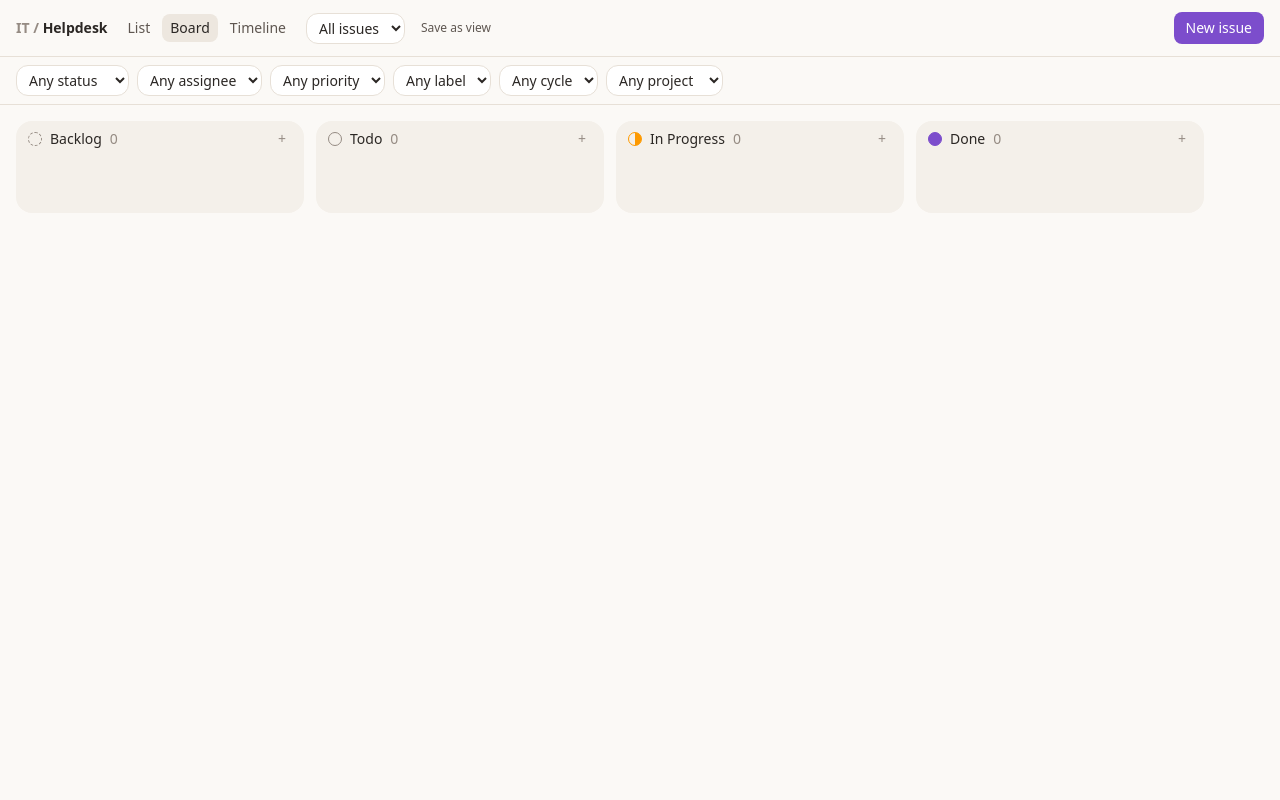
Test: TeamIssuesPage › creates an issue in the chosen column
Click the button named "New issue in In Progress" at (882, 139), box [872,129,892,149]
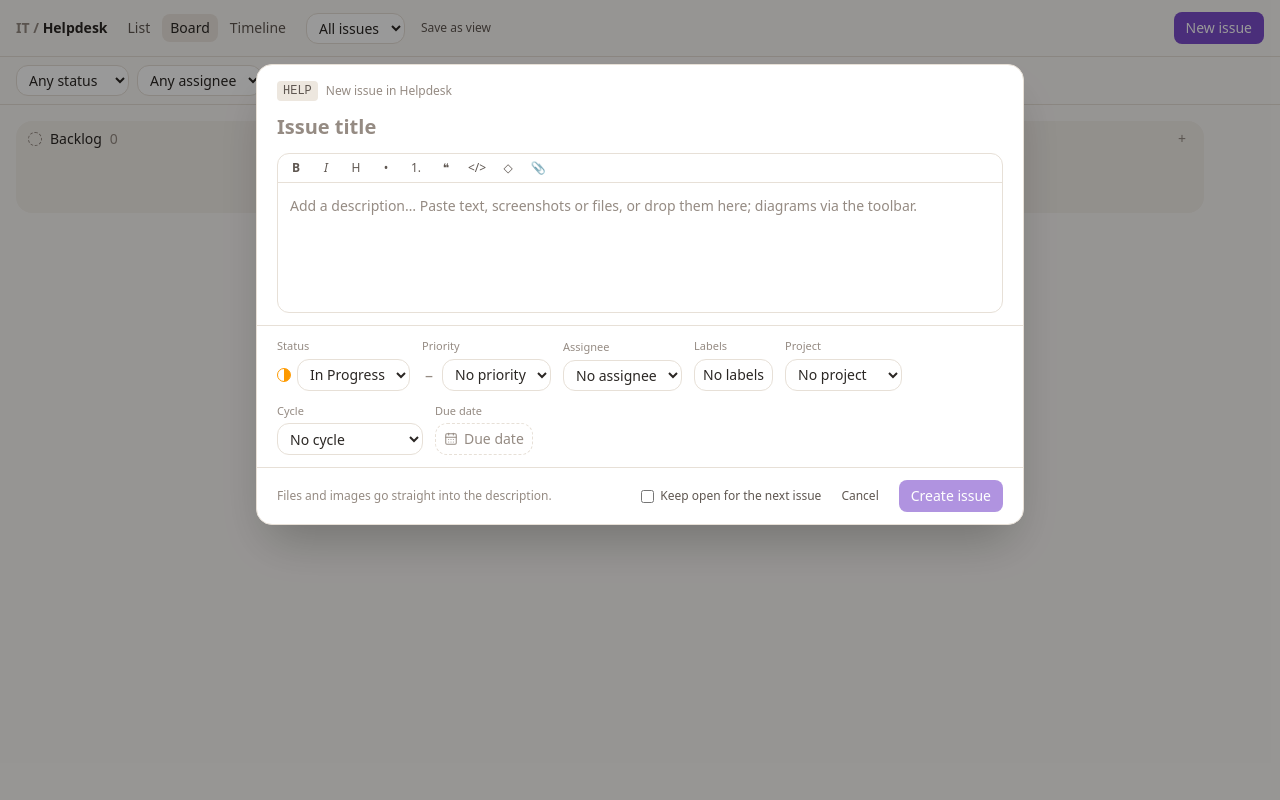
Type "Replace toner" into the field labelled "Issue title" at (640, 127), box [277,113,1003,141]
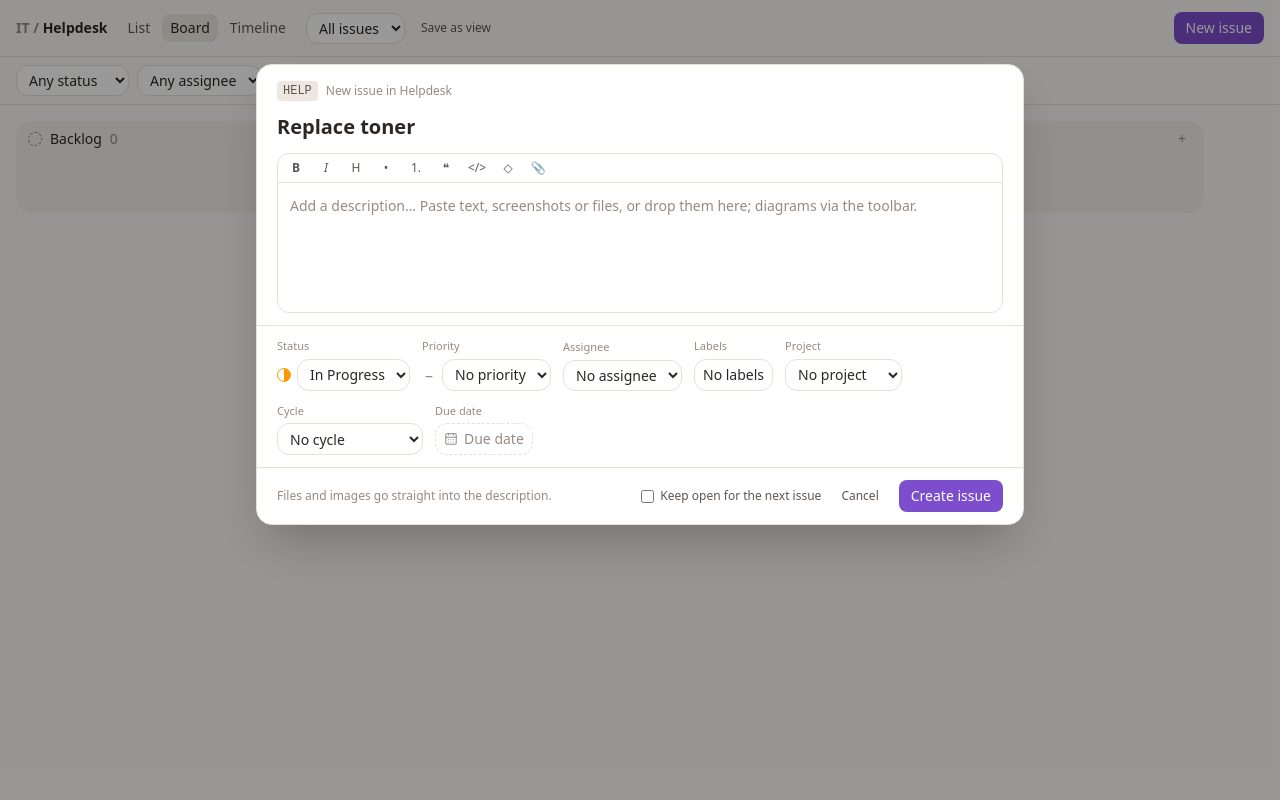
Select "Bob Stone" in the dropdown named "Assignee" at (622, 375), box [563,360,682,390]
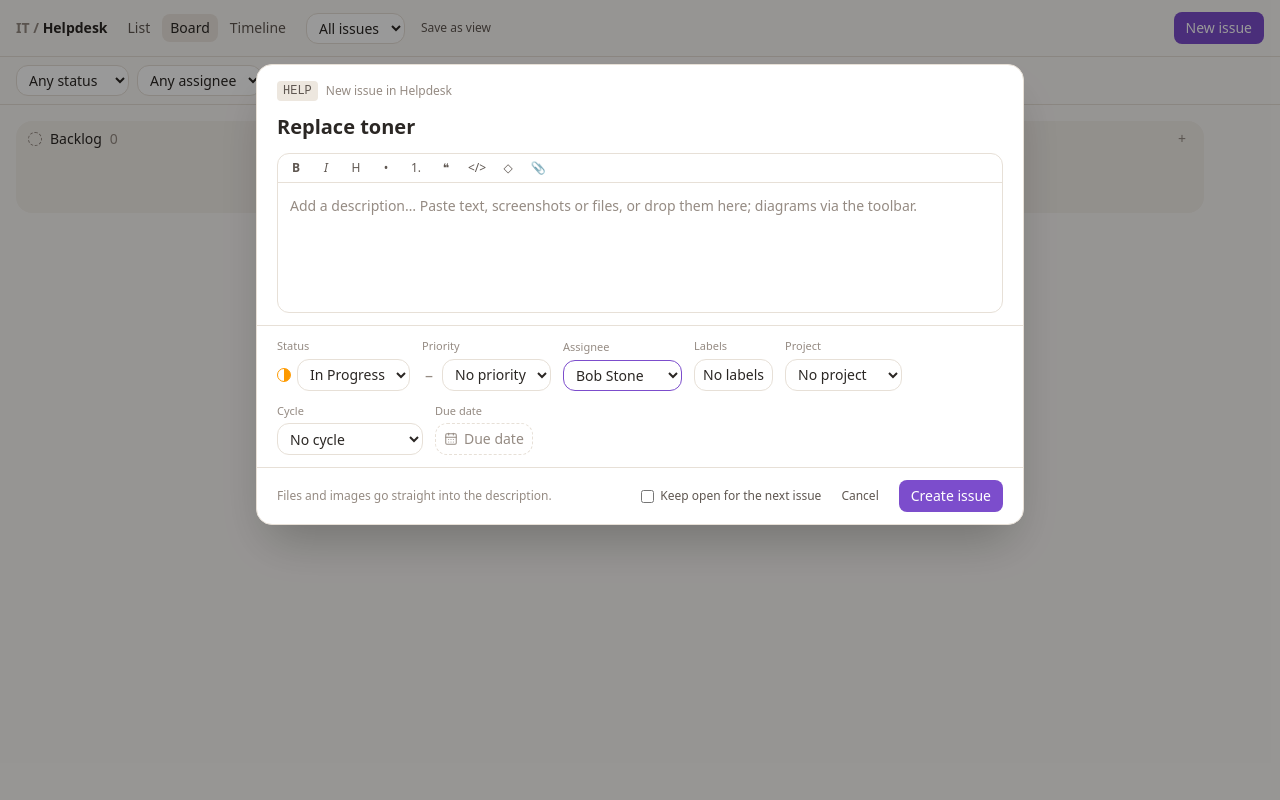
Click the button "Create issue" at (951, 496), box [899,480,1003,512]
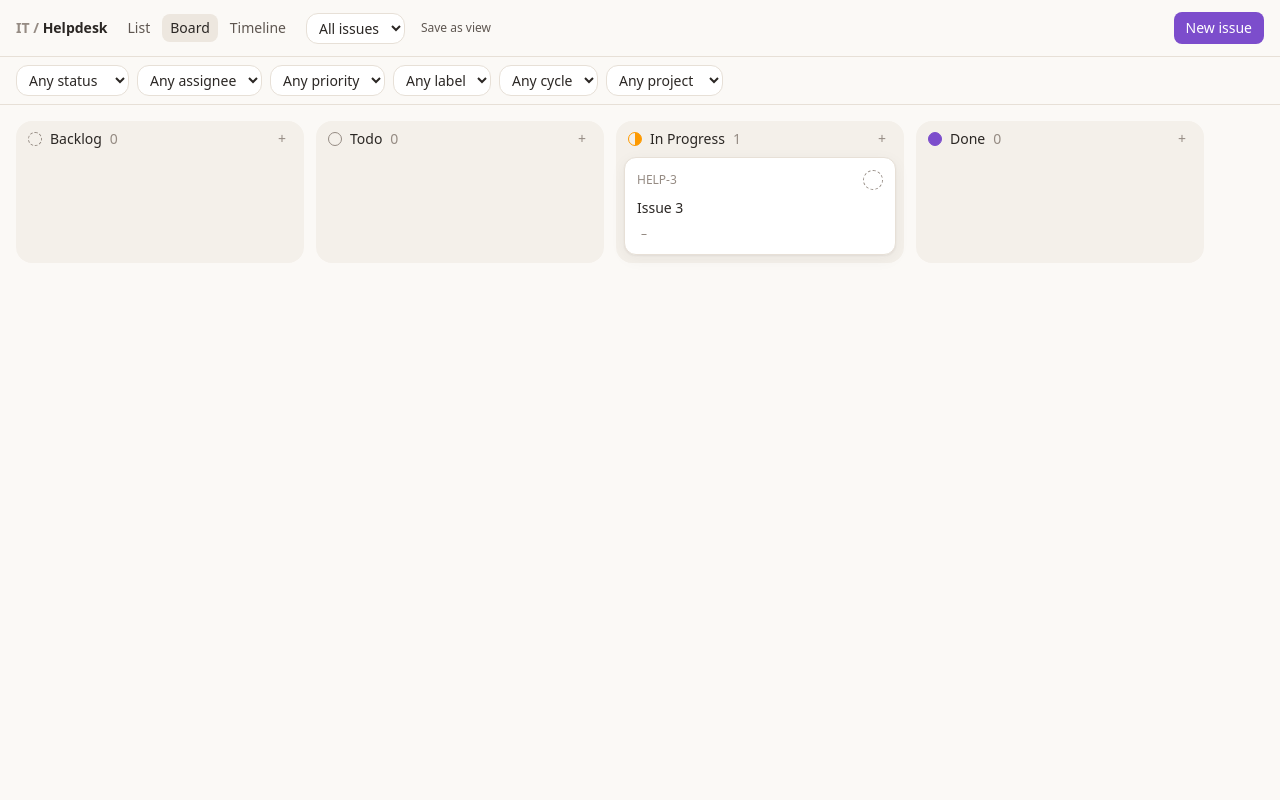
Result: the dialog is gone
Result: the text "Issue 3" is shown at [637,198,683,217]
